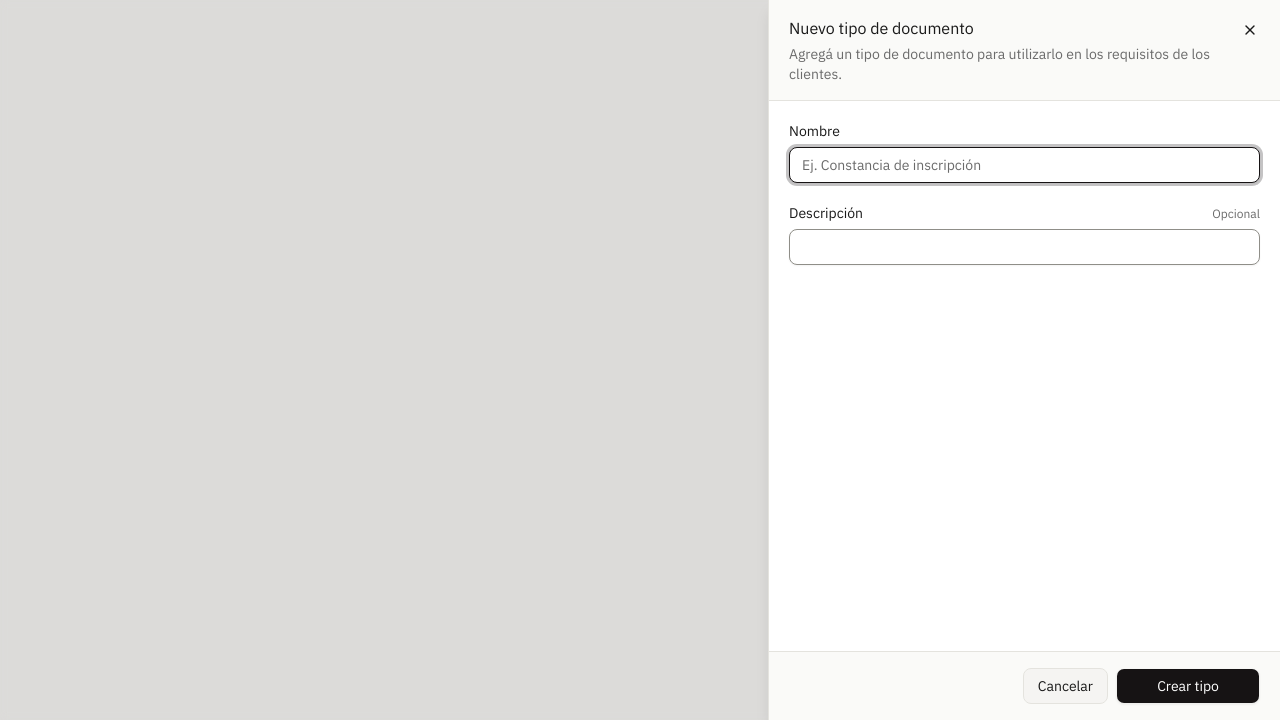
Test: NuevoTipoDocumentoSheet: feedback del alta › si falla, nunca confirma: queda abierto, con los datos y el botón en reposo
Type "Libre deuda" into the field labelled "Nombre" at point(1024, 165), box top-left (789, 147), bottom-right (1260, 183)
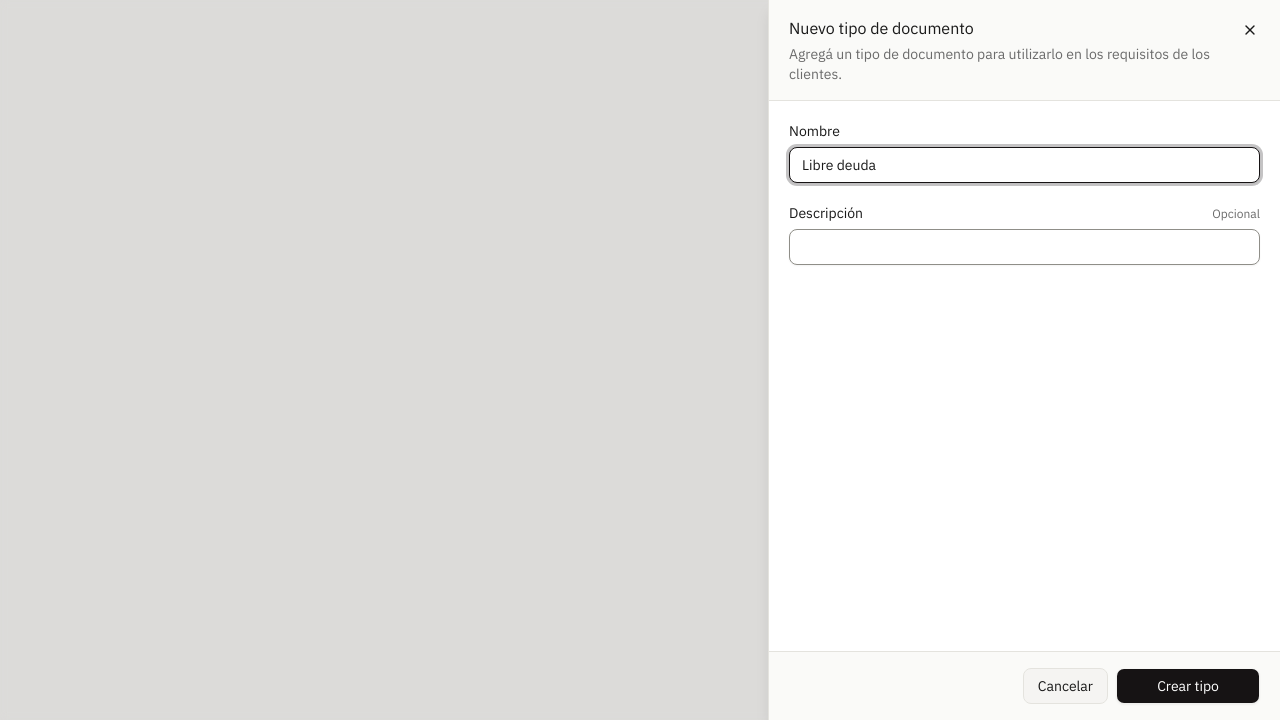
Click the button "Crear tipo" at point(1188, 686), box top-left (1116, 668), bottom-right (1260, 704)
Wait 1000 ms
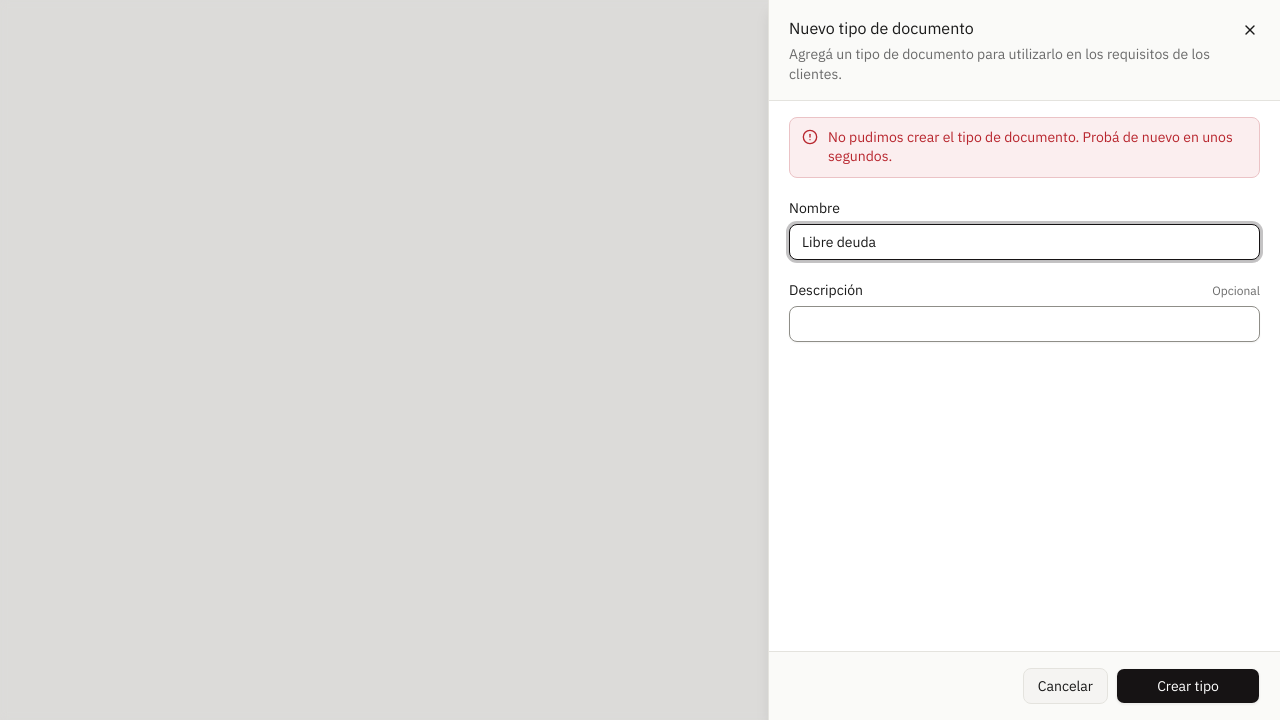
Now the message shows "No pudimos crear el tipo de documento.", box top-left (828, 128), bottom-right (1233, 165)
